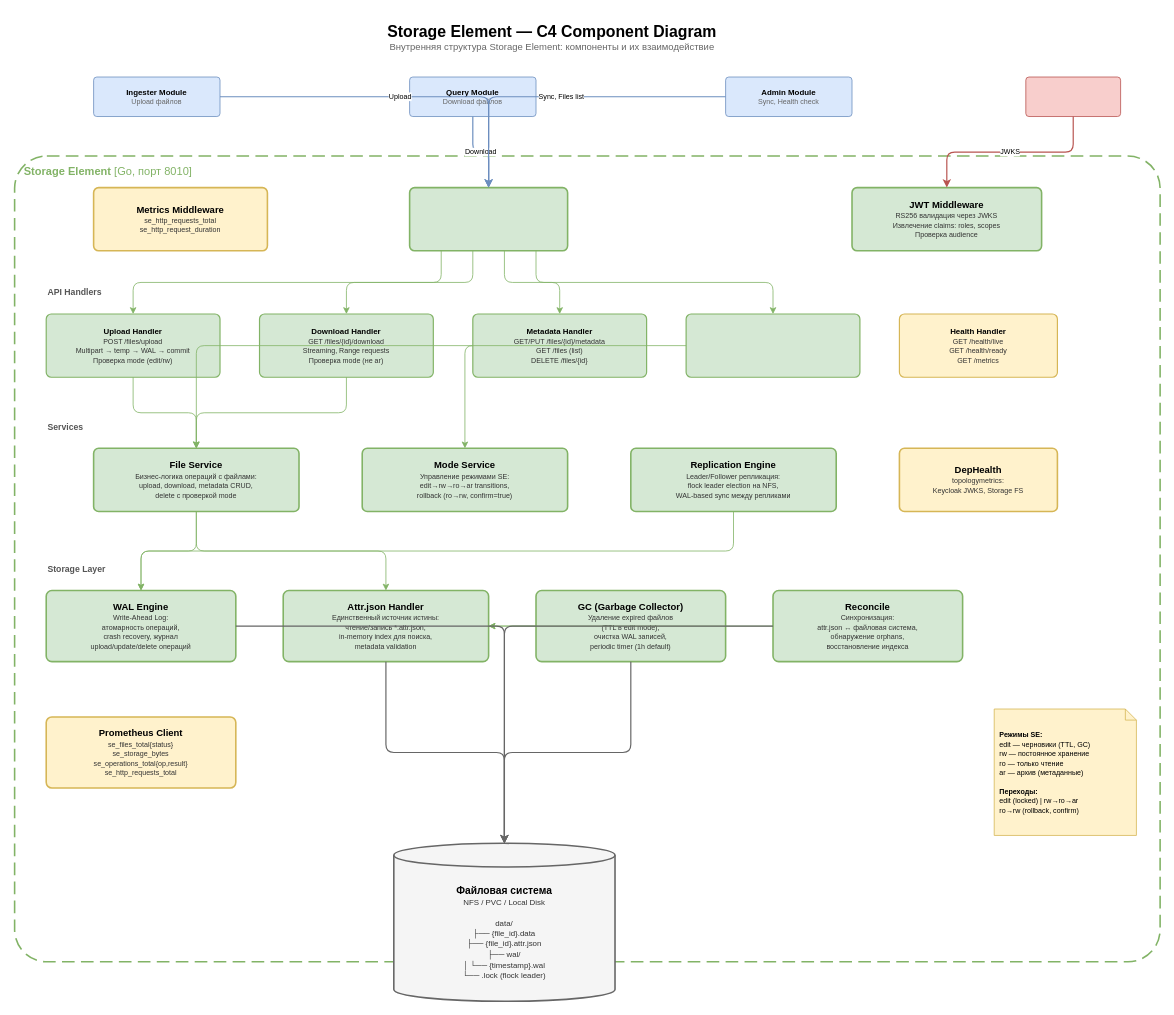
Some shapes in this 1174 by 1015 pixel diagram are drawn without their labels. The centre of each missing label's shape, as x and y in pixels:
"HTTP Server net/http + chi router Graceful shutdown Порт: 8010" belongs at point (488, 218).
"Keycloak JWKS" belongs at point (1073, 96).
"Mode Handler GET /mode POST /mode/transition edit→rw→ro→ar lifecycle" belongs at point (772, 345).
